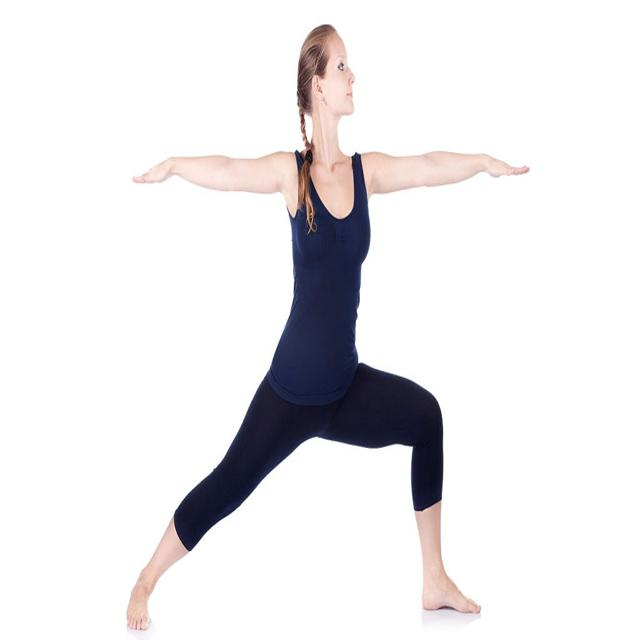Warrior_II: (129, 19, 534, 634)
